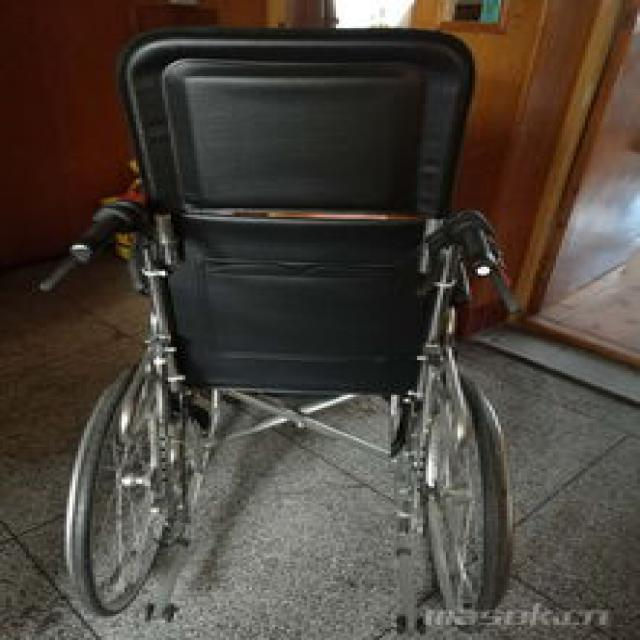wheelchair: (35, 19, 568, 636)
